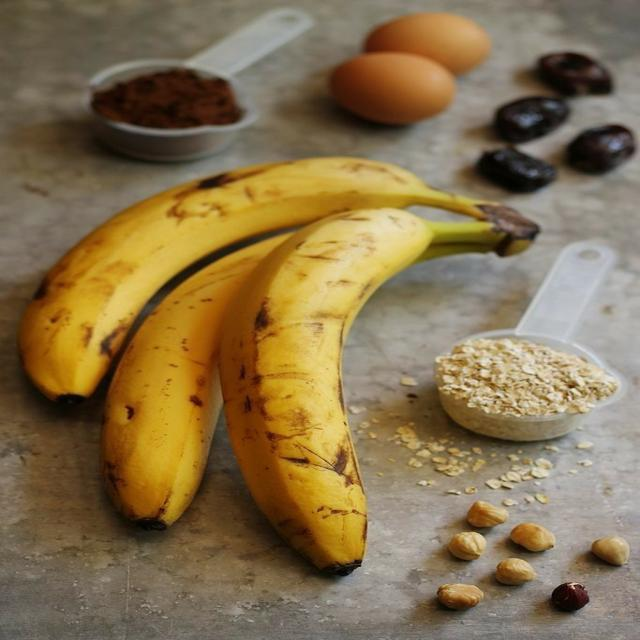egg raw: (331, 52, 454, 124), (365, 12, 490, 75)
unpeal banana: (19, 157, 513, 402), (221, 209, 527, 574), (102, 235, 288, 529)
